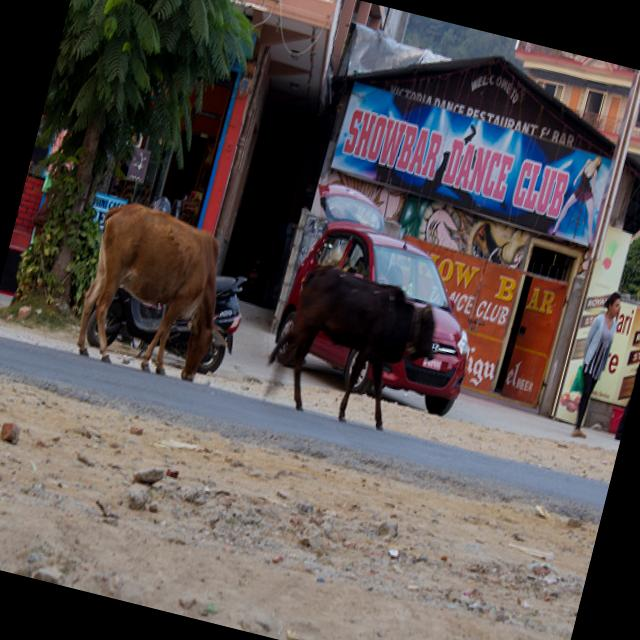Vehicle: (265, 208, 498, 423), (85, 242, 254, 378)
